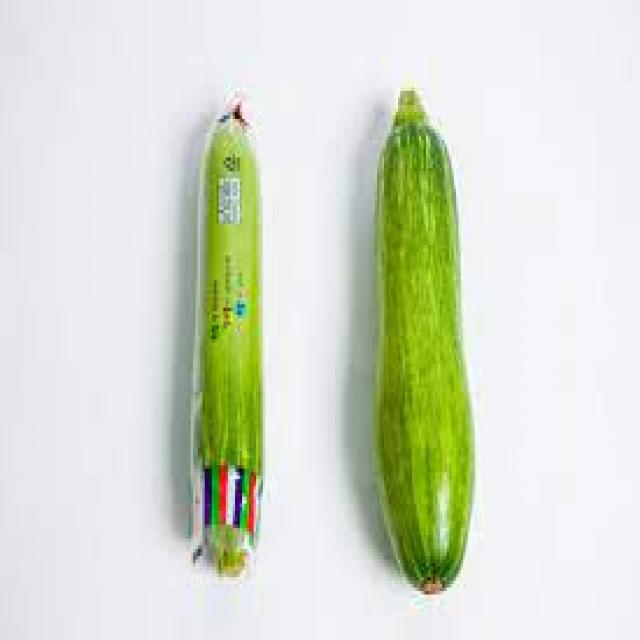zucchini: (375, 91, 475, 595)
